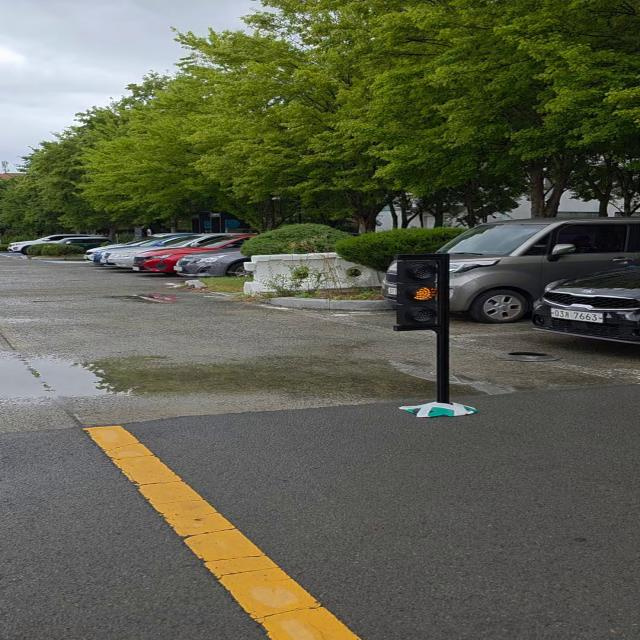yellow: (396, 252, 444, 330)
